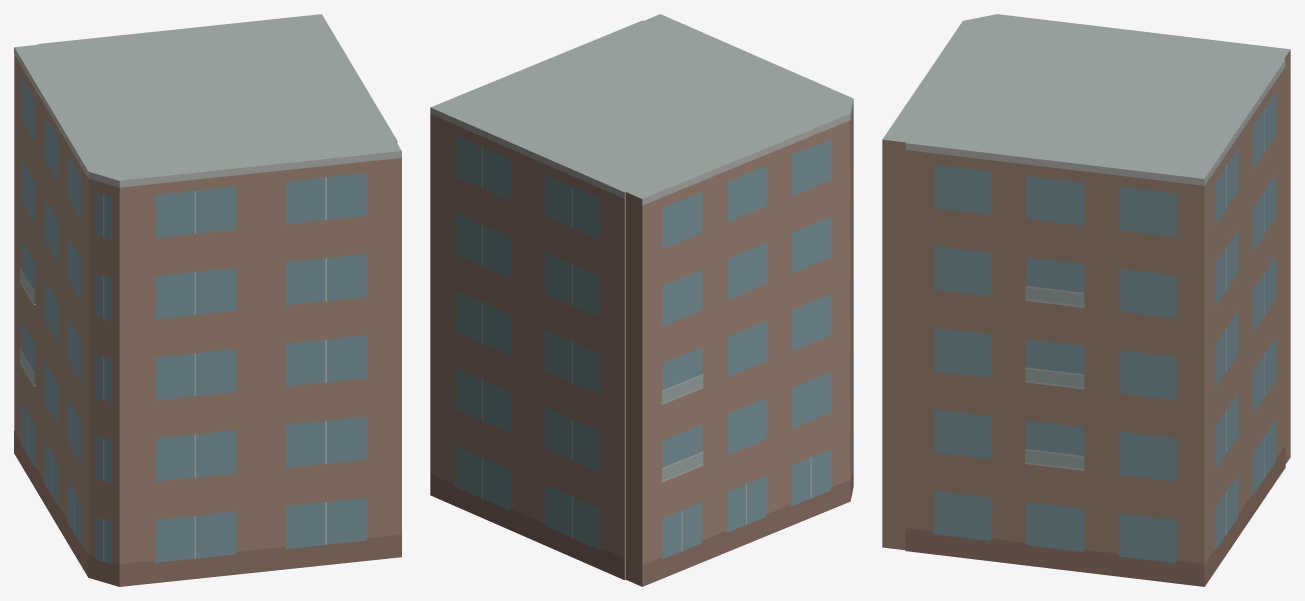
Rendered from survey-upis-32940174.glb.
3 renders of one model, left to right at view 1: azimuth 30°, elevation 25°; view 2: azimuth 150°, elevation 25°; view 3: azimuth 270°, elevation 25°, orthographic. The views are drawn at different scales.
Visible parts, largest first — view 1: survey-upis-32940174.tmp; view 2: survey-upis-32940174.tmp; view 3: survey-upis-32940174.tmp.
Boxes of the visible parts, bbox=[...] form: survey-upis-32940174.tmp: bbox=[14, 14, 401, 586]; survey-upis-32940174.tmp: bbox=[430, 14, 853, 586]; survey-upis-32940174.tmp: bbox=[882, 14, 1290, 586].
Size of the model in its own units: 12.68 by 14.6 by 13.26.
